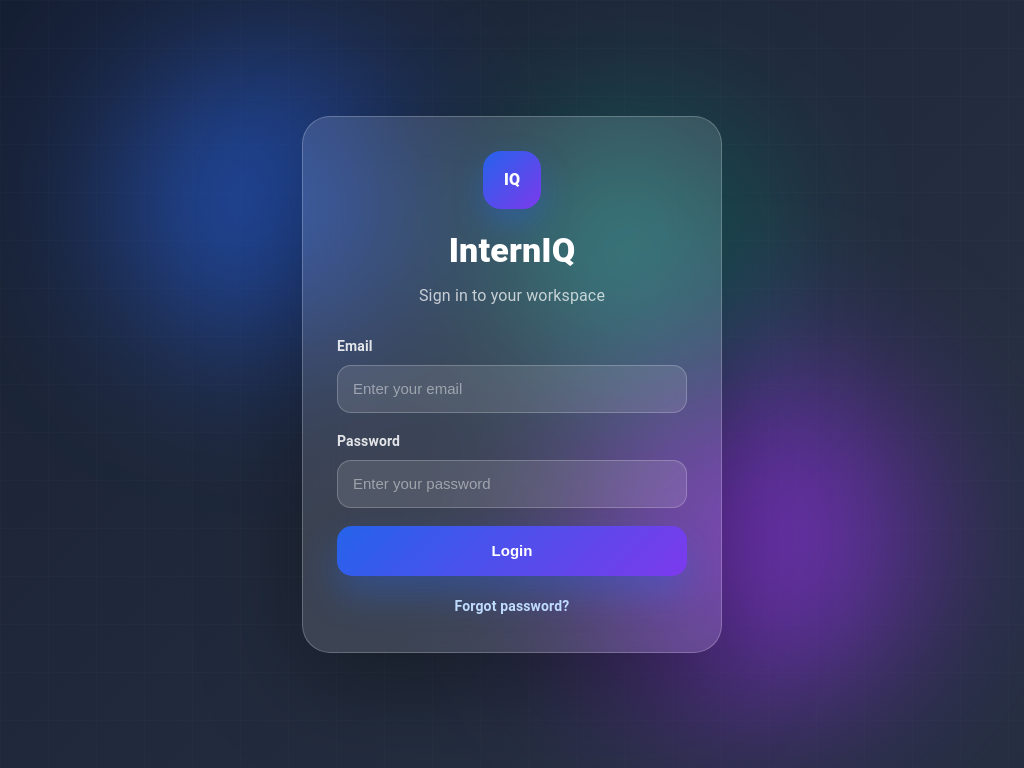
Test: Login page › shows backend login errors
Step 1. Type "manager@test.com" into the field labelled "Email" → (512,388), box [337,364,687,412]
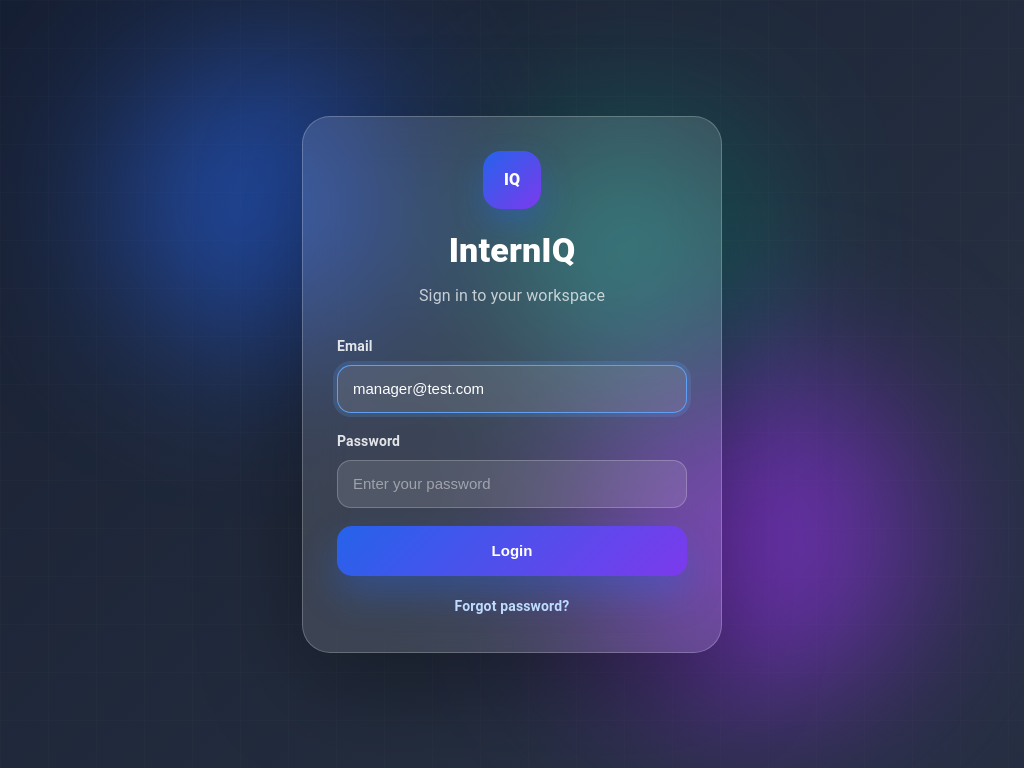
Step 2. Type "wrong-password" into the password field labelled "Password" → (512,484), box [337,460,687,508]
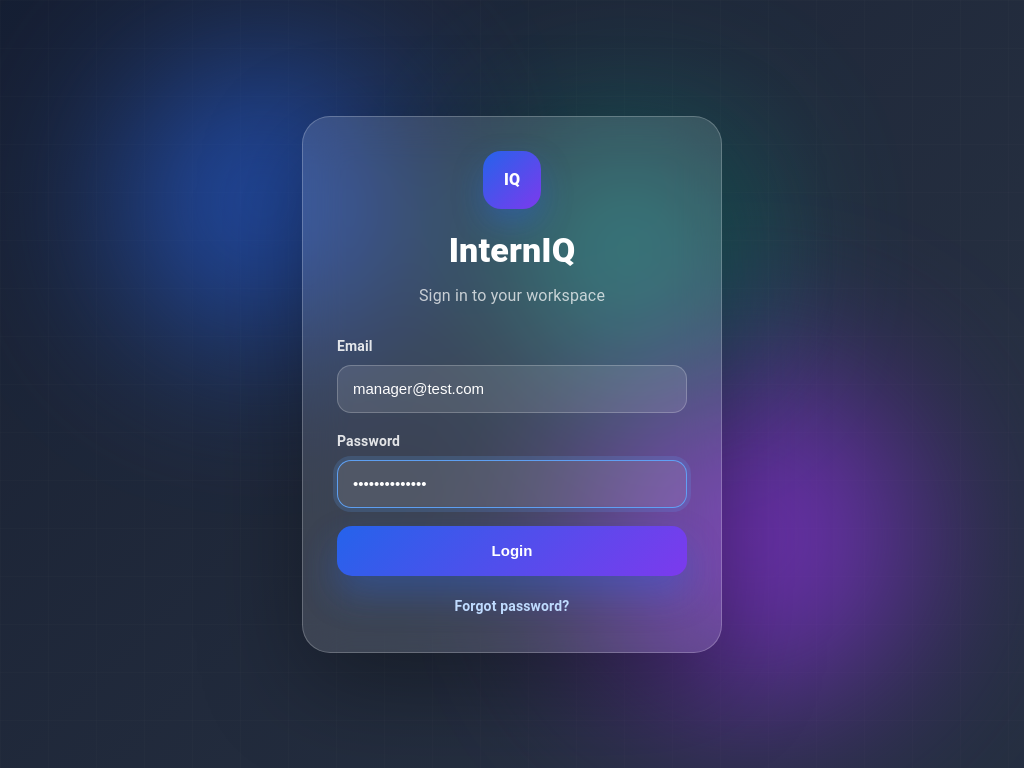
Step 3. Click the button "Login" → (512,550), box [337,526,687,576]
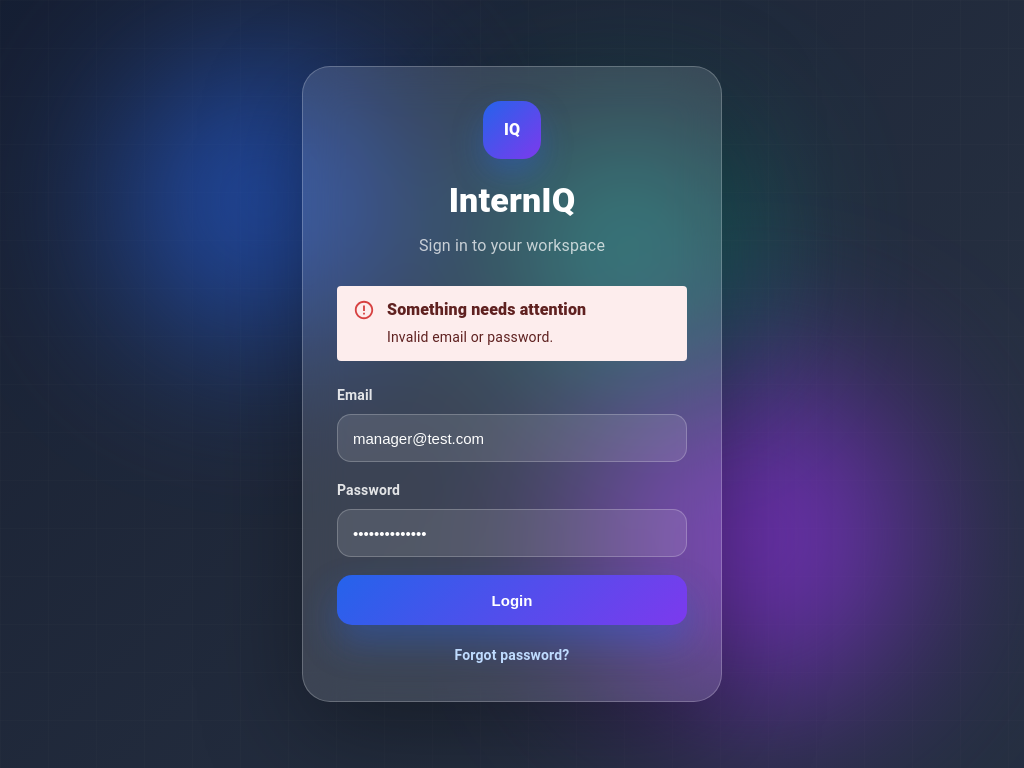
Expected: the text "Invalid email or password." is shown, [387,329,553,345]
